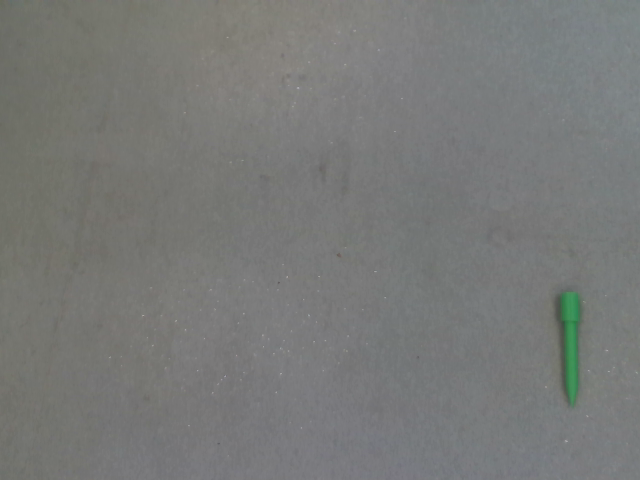Probe: (553, 284, 587, 417)
